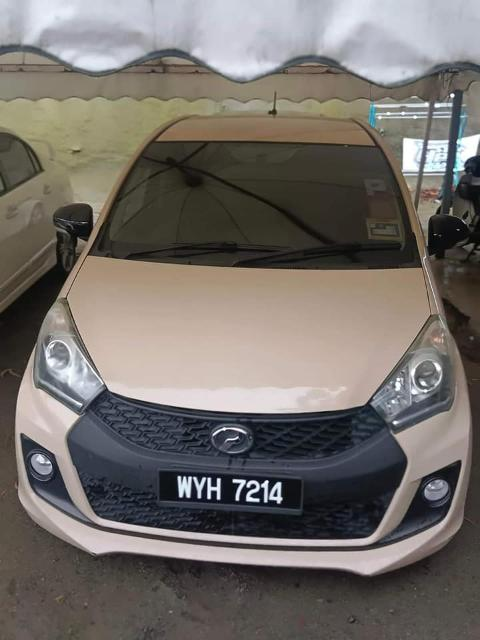License_Plate: (159, 468, 299, 519)
car: (18, 106, 469, 574)
